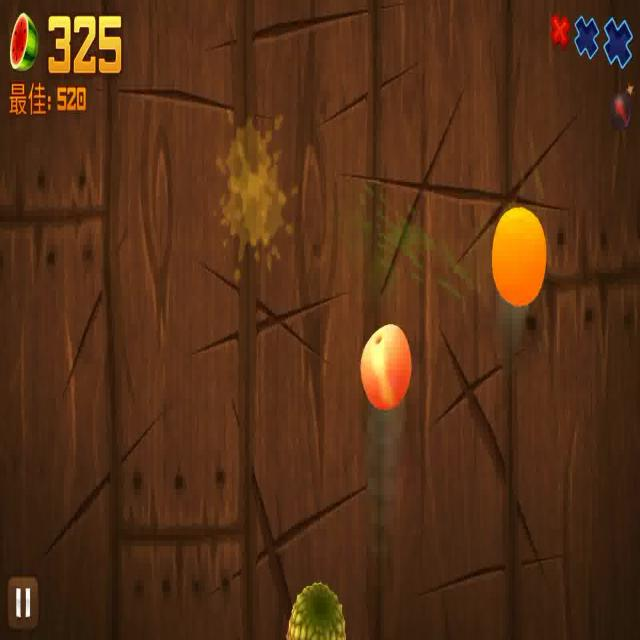fruit: (493, 203, 550, 308), (356, 325, 416, 406), (282, 582, 354, 640)
